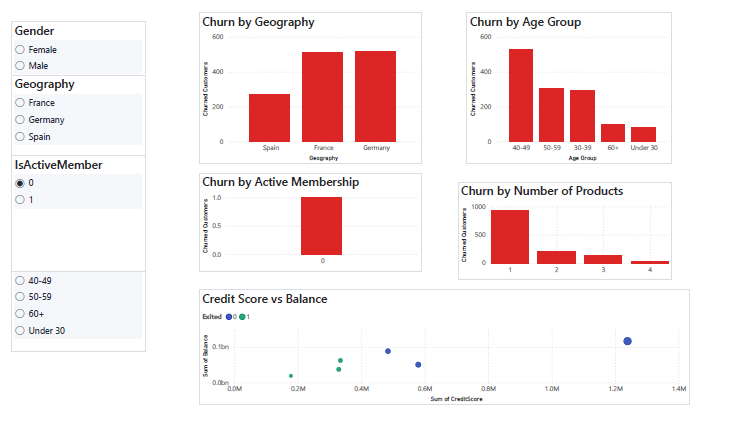

This screenshot's page, from the dashboard's own definition file:
{"tool":"powerbi","page":{"name":"Churn Analysis","canvas":[1280,720],"ordinal":2},"visuals":[{"type":"columnChart","title":"Churn by Geography","fields":{"Y":["BankCustomers.Churned Customers"],"Category":["BankCustomers.Geography"]},"box":[336,0,400,272],"z":0},{"type":"clusteredColumnChart","title":"Churn by Active Membership","fields":{"Category":["BankCustomers.IsActiveMember"],"Y":["BankCustomers.Churned Customers"]},"box":[336,288,400,176],"z":1000},{"type":"columnChart","title":"Churn by Age Group","fields":{"Category":["BankCustomers.Age Group"],"Y":["BankCustomers.Churned Customers"]},"box":[816,0,368,272],"z":2000},{"type":"clusteredColumnChart","title":"Churn by Number of Products","fields":{"Category":["BankCustomers.NumOfProducts"],"Y":["BankCustomers.Churned Customers"]},"box":[800,304,384,176],"z":3000},{"type":"scatterChart","title":"Credit Score vs Balance","fields":{"X":["Sum(BankCustomers.CreditScore)"],"Y":["Sum(BankCustomers.Balance)"],"Category":["BankCustomers.Geography"],"Size":["Sum(BankCustomers.EstimatedSalary)"],"Series":["BankCustomers.Exited"]},"box":[336,496,880,208],"z":4000},{"type":"listSlicer","fields":{"Values":["BankCustomers.Gender"]},"box":[0,16,240,208],"z":5000},{"type":"listSlicer","fields":{"Values":["BankCustomers.Geography"]},"box":[0,112,240,208],"z":6000},{"type":"listSlicer","fields":{"Values":["BankCustomers.Age Group"]},"box":[0,400,240,208],"z":7000},{"type":"listSlicer","fields":{"Values":["BankCustomers.IsActiveMember"]},"box":[0,256,240,208],"z":8000}]}

Visuals, with their boxes in screenshot pixels (x1, y1, x2, y2), scaled from the page's 1280x720 canvas onto the 731x422 screenshot:
"Churn by Geography" columnChart: (192,0,420,159)
"Churn by Active Membership" clusteredColumnChart: (192,169,420,272)
"Churn by Age Group" columnChart: (466,0,676,159)
"Churn by Number of Products" clusteredColumnChart: (457,178,676,281)
"Credit Score vs Balance" scatterChart: (192,291,694,413)
listSlicer - BankCustomers.Gender: (0,9,137,131)
listSlicer - BankCustomers.Geography: (0,66,137,188)
listSlicer - BankCustomers.Age Group: (0,234,137,356)
listSlicer - BankCustomers.IsActiveMember: (0,150,137,272)
